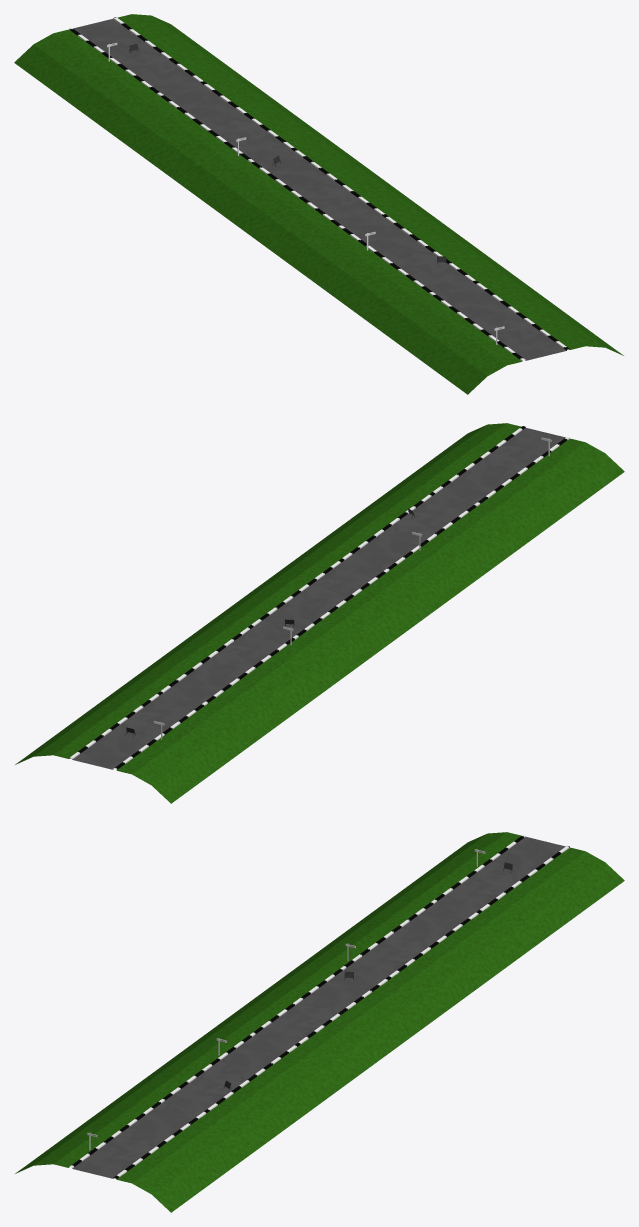
The model's file is road_a.obj.
3 views of the same model, one above another, from view 1: azimuth 30°, elevation 25°; view 2: azimuth 150°, elevation 25°; view 3: azimuth 330°, elevation 25° (orthographic).
Parts seen in each view (by area): view 1: Road; view 2: Road; view 3: Road.
Boxes of the visible parts, <box> form: Road: <box>14,14,623,394</box>; Road: <box>15,423,624,803</box>; Road: <box>15,832,624,1212</box>.
Bounding box in the file's own units: 8 × 1.81 × 40.
